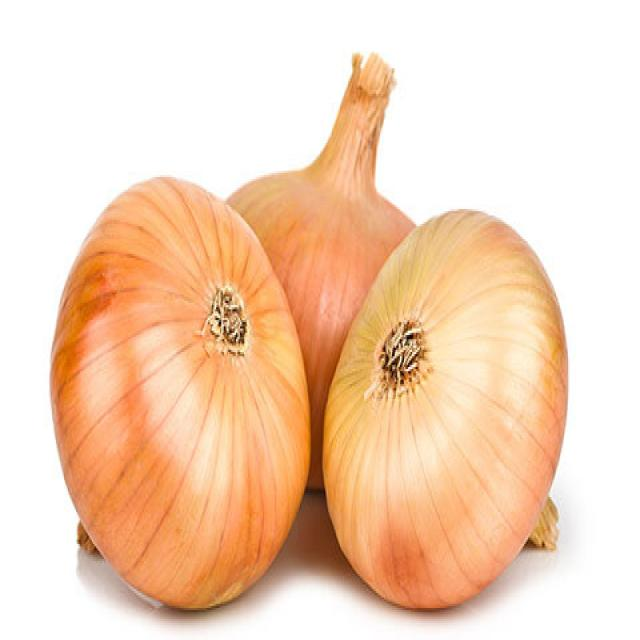onion: (48, 162, 311, 612), (321, 211, 568, 610), (229, 49, 422, 486)
